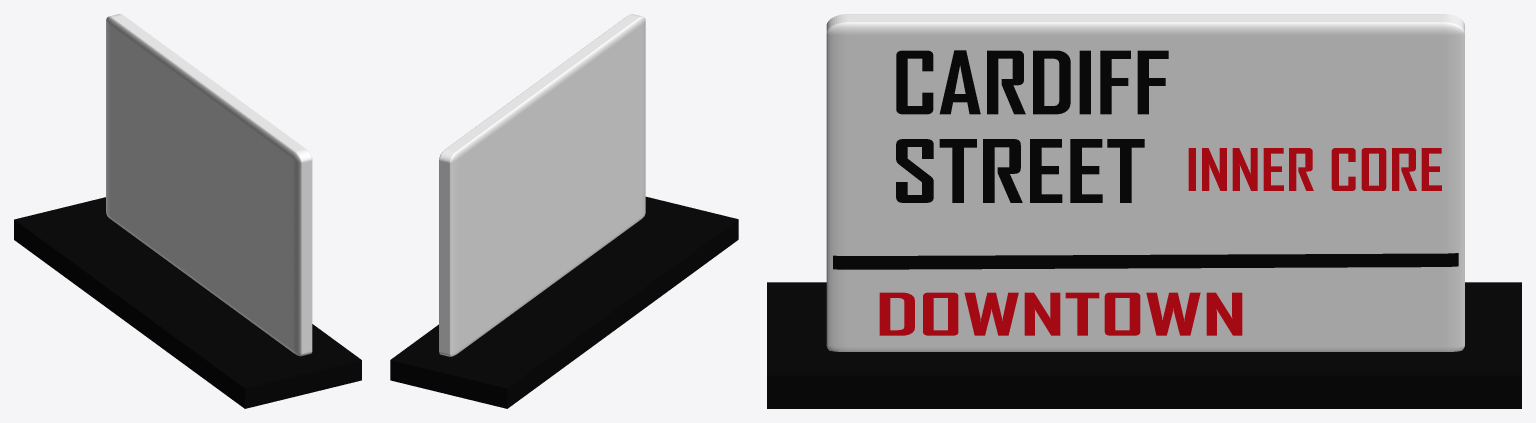
Rendered from uk_styled_street_sign_73.fbx.
The picture shows the model from 3 angles, left to right: view 1: azimuth 30°, elevation 25°; view 2: azimuth 150°, elevation 25°; view 3: azimuth 270°, elevation 25°; orthographic projection. The views are drawn at different scales.
Visible parts, largest first — view 1: Cube, Cube.001; view 2: Cube, Cube.001; view 3: Cube, Cube.001, Text.002, Text, Text.001, Text.003.
Part boxes in pixels (left/top/right/bottom): Cube: left=106, top=14, right=312, bottom=356; Cube.001: left=14, top=197, right=361, bottom=408; Cube: left=439, top=14, right=645, bottom=356; Cube.001: left=390, top=196, right=738, bottom=408; Cube: left=826, top=14, right=1464, bottom=351; Cube.001: left=767, top=282, right=1521, bottom=408; Text.002: left=879, top=292, right=1242, bottom=335; Text: left=896, top=50, right=1168, bottom=114; Text.001: left=896, top=139, right=1144, bottom=202; Text.003: left=1188, top=148, right=1441, bottom=190.
Bounding box in the file's own units: 12 × 21.71 × 41.07.
